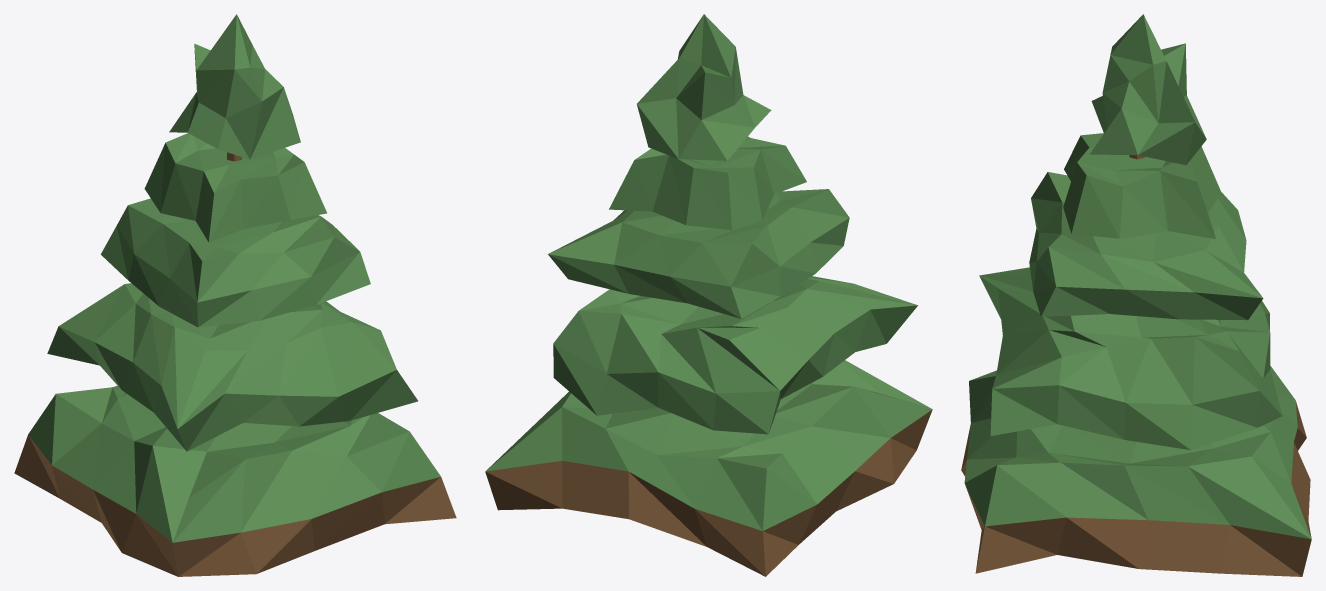
Rendered from tree3d-092.glb.
The picture shows the model from 3 angles, left to right: view 1: azimuth 30°, elevation 25°; view 2: azimuth 150°, elevation 25°; view 3: azimuth 270°, elevation 25°; orthographic projection. The views are drawn at different scales.
Visible parts, largest first — view 1: tree3d-092; view 2: tree3d-092; view 3: tree3d-092.
Part boxes in pixels (left/top/right/bottom): tree3d-092: left=14, top=14, right=456, bottom=576; tree3d-092: left=485, top=14, right=932, bottom=576; tree3d-092: left=961, top=14, right=1311, bottom=576.
Size of the model in its own units: 0.5921 by 1 by 0.5908.
